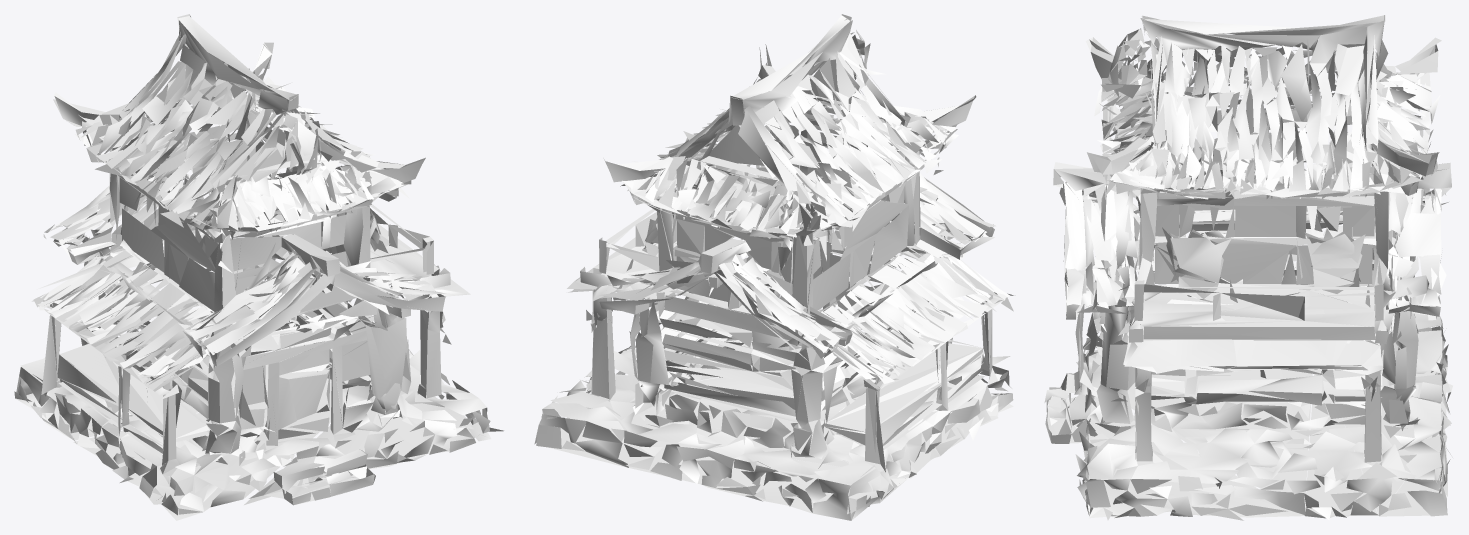
The model's file is house_shop_b_lod1.glb.
3 renders of one model, left to right at view 1: azimuth 30°, elevation 25°; view 2: azimuth 150°, elevation 25°; view 3: azimuth 270°, elevation 25°, orthographic. The views are drawn at different scales.
Parts seen in each view (by area): view 1: house_shop_b; view 2: house_shop_b; view 3: house_shop_b.
Part boxes in pixels (bbox=[...]): house_shop_b: bbox=[14, 14, 503, 520]; house_shop_b: bbox=[534, 14, 1013, 520]; house_shop_b: bbox=[1044, 15, 1452, 520].
Size of the model in its own units: 8.78 by 9.11 by 8.21.
1 material, 1 textured.
